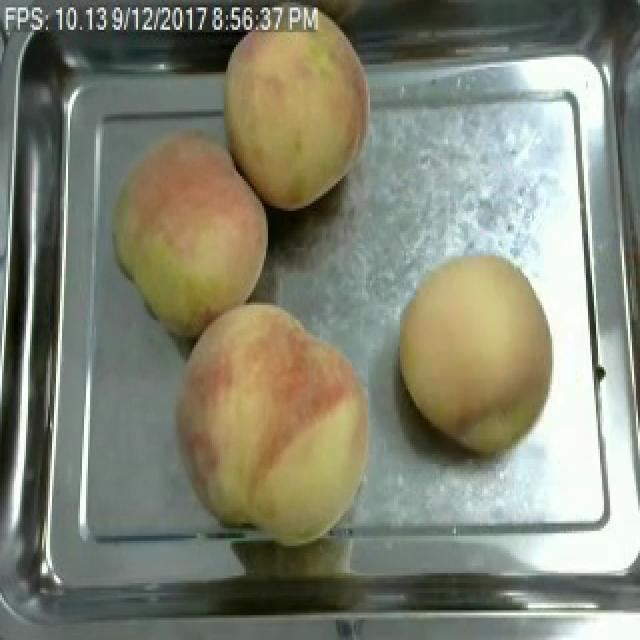Fruit: (166, 295, 382, 551), (390, 245, 566, 464), (104, 124, 278, 345), (212, 0, 382, 221)
